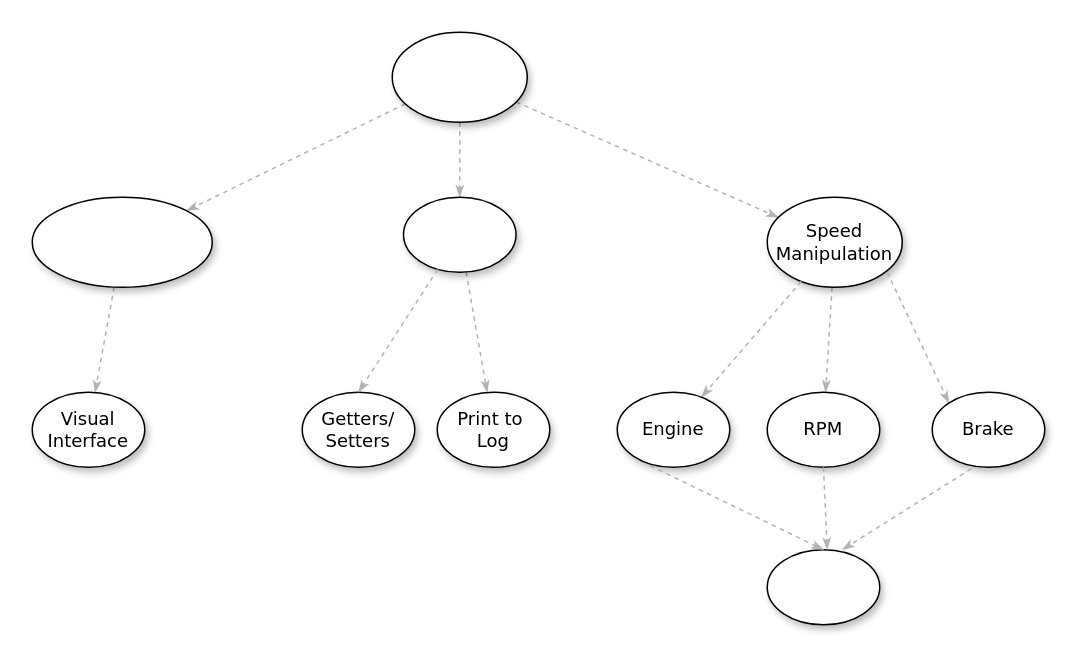
Some shapes in this 1080 by 662 pixel diagram are drawn without their labels. Each missing label, with the centre of its shape:
"cruise control" belongs at pixel 460 79.
"External Comm. Management" belongs at pixel 123 244.
"Sensor Comm." belongs at pixel 824 588.
"System Logging" belongs at pixel 460 236.
